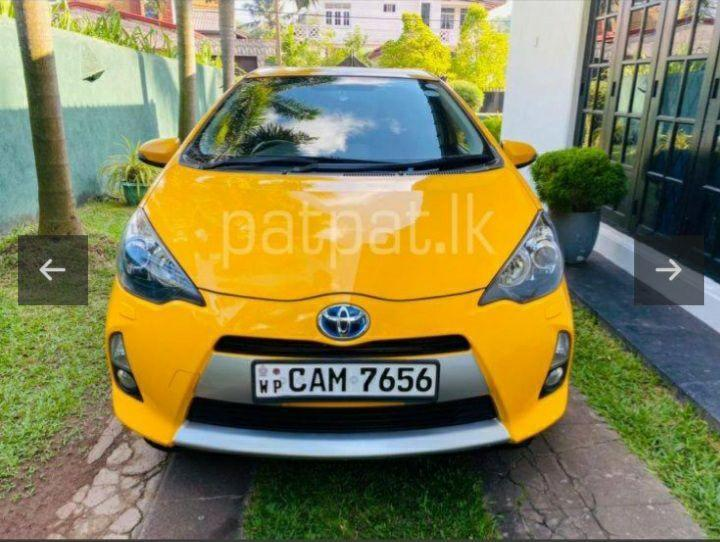license-plate: (254, 361, 435, 395)
